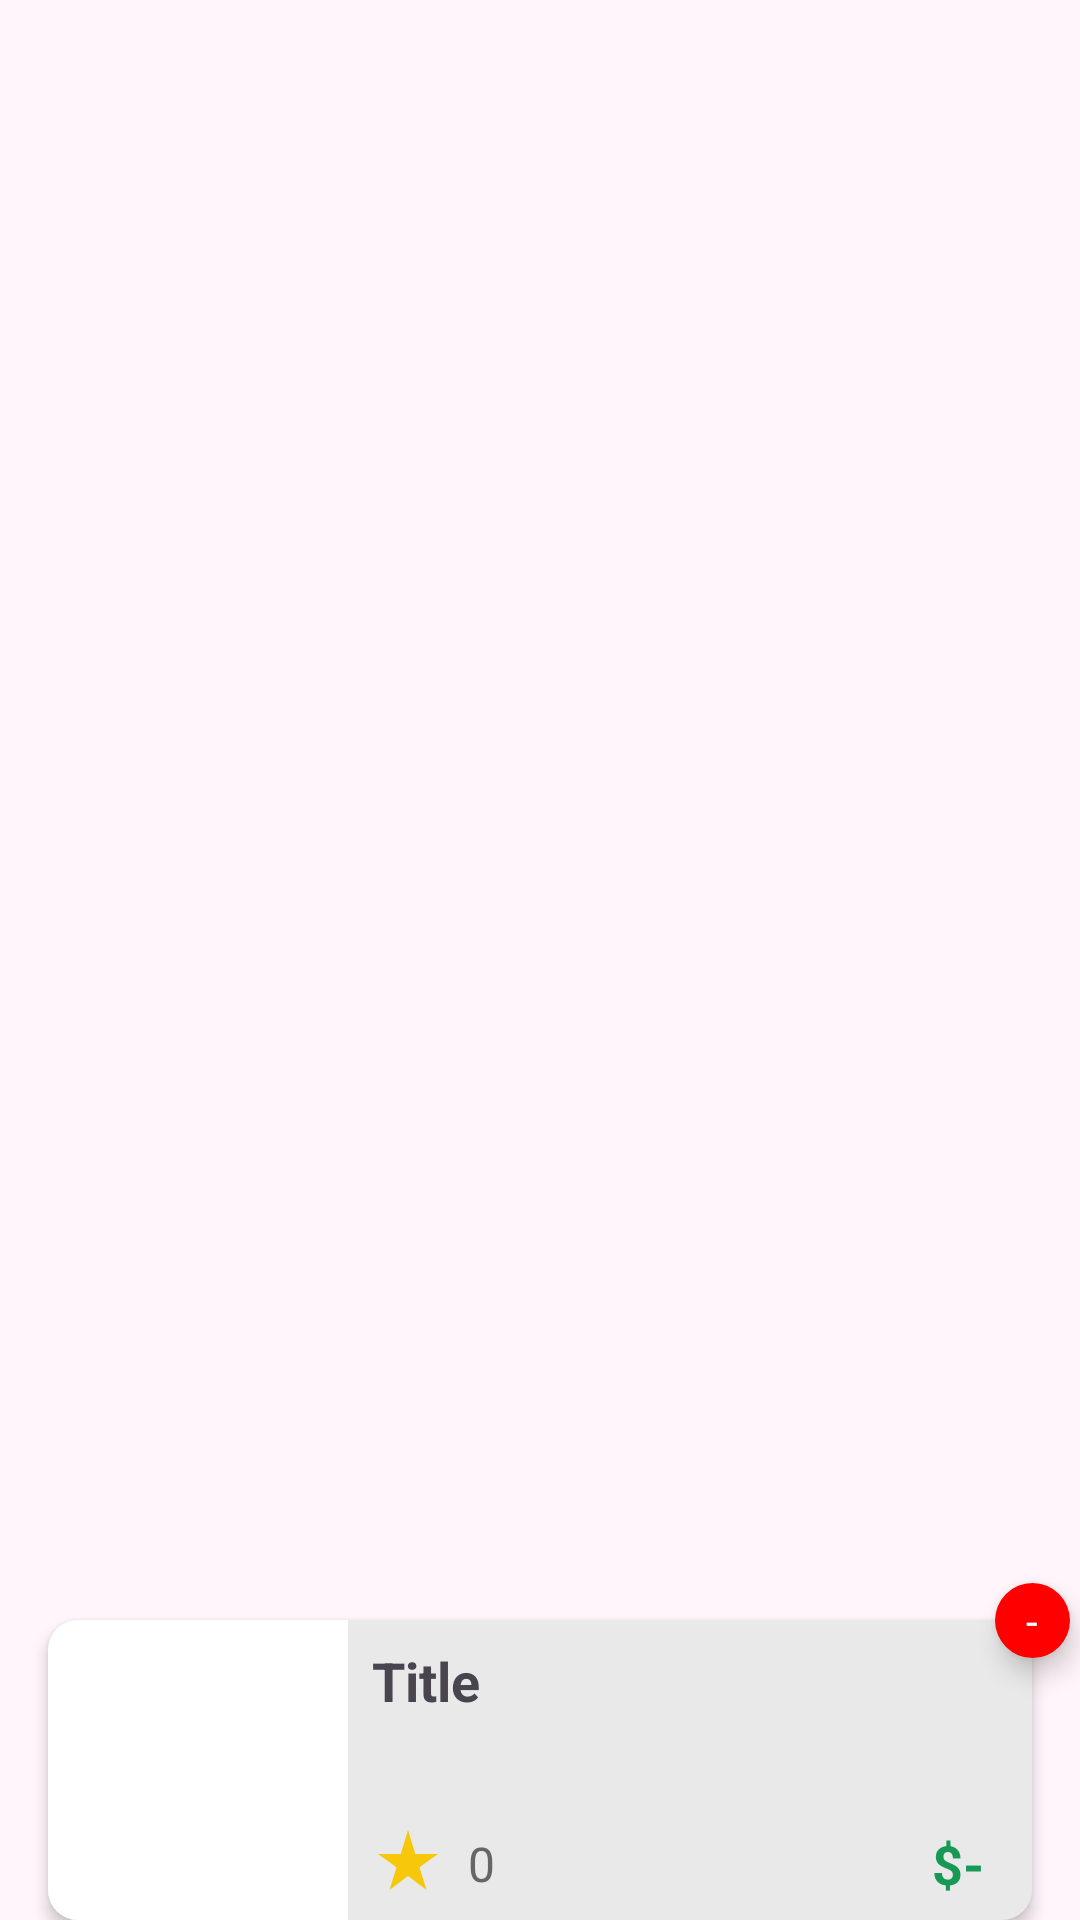

Named icons in this screenshot (1080px x 1920px) and their centers, point (x, y):
star rate: point (408, 1860)
